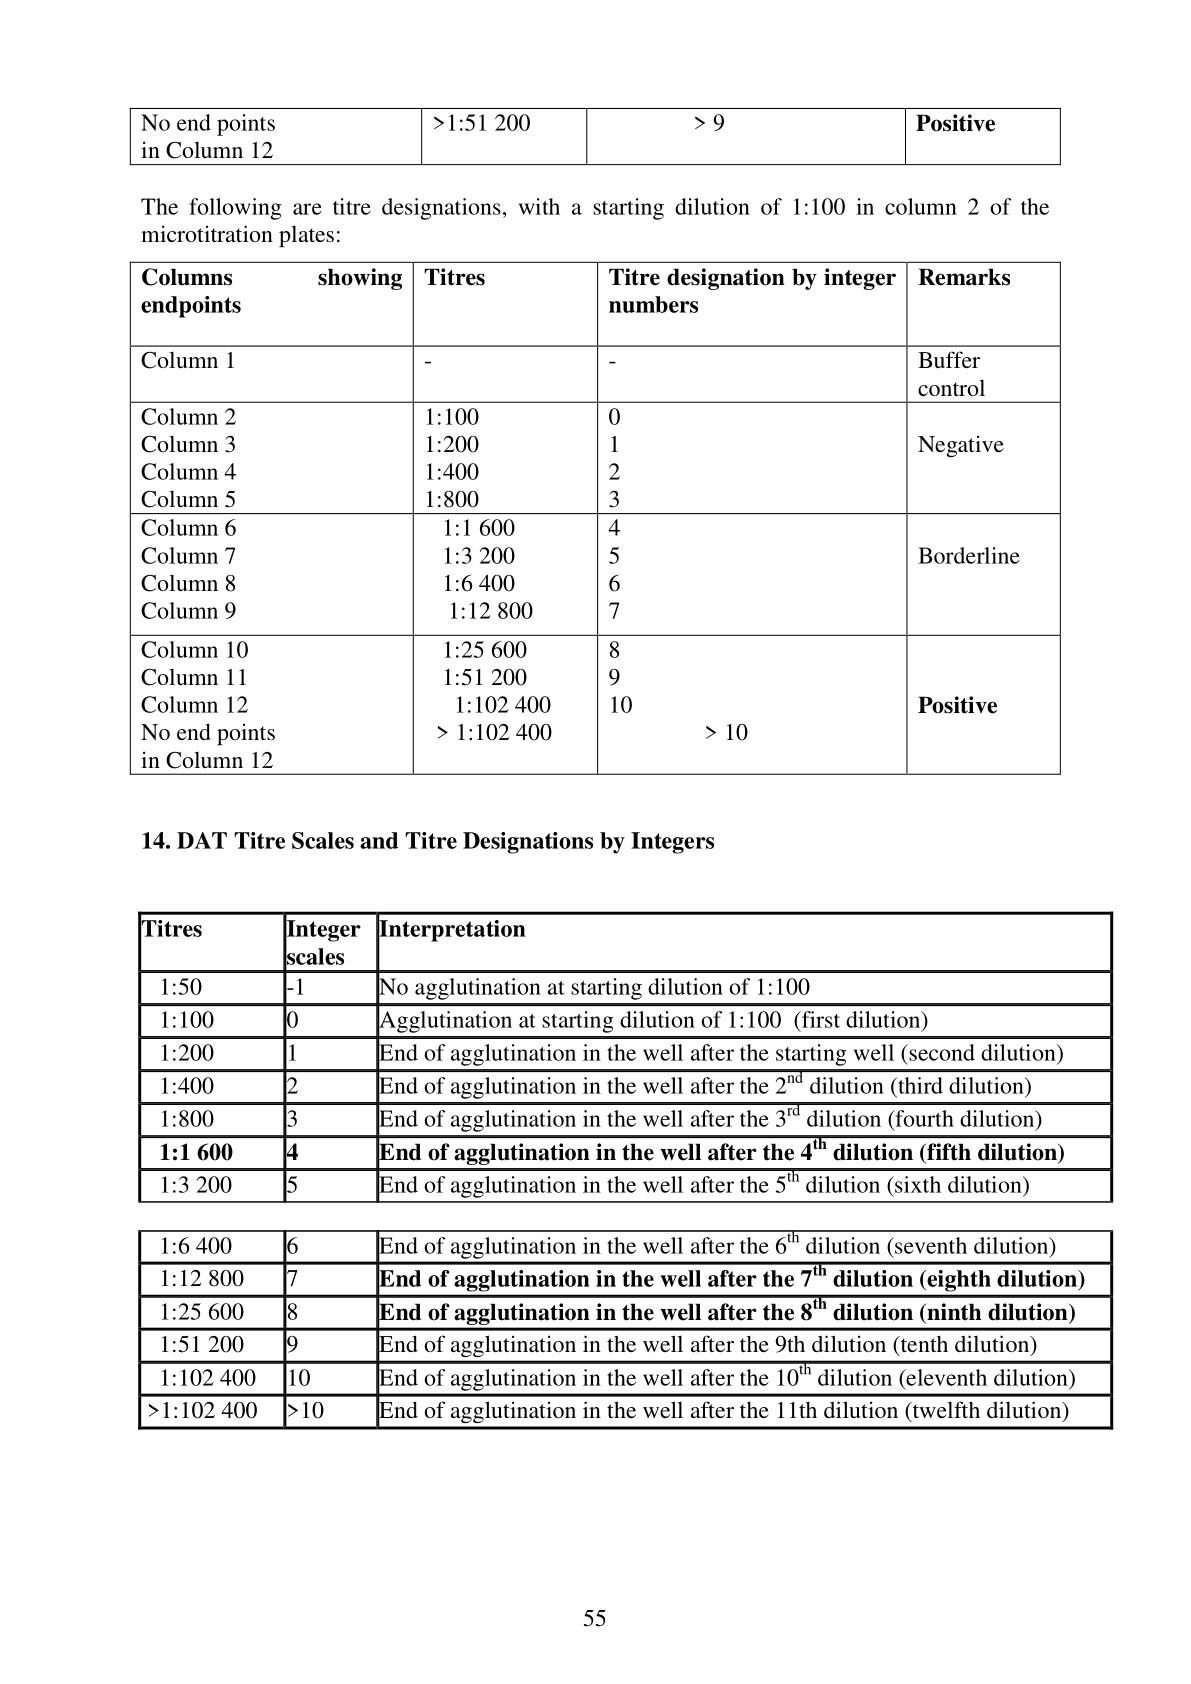full_lined: (129, 260, 1062, 776), (137, 911, 1114, 1203), (138, 1228, 1112, 1430), (129, 106, 1062, 166)
